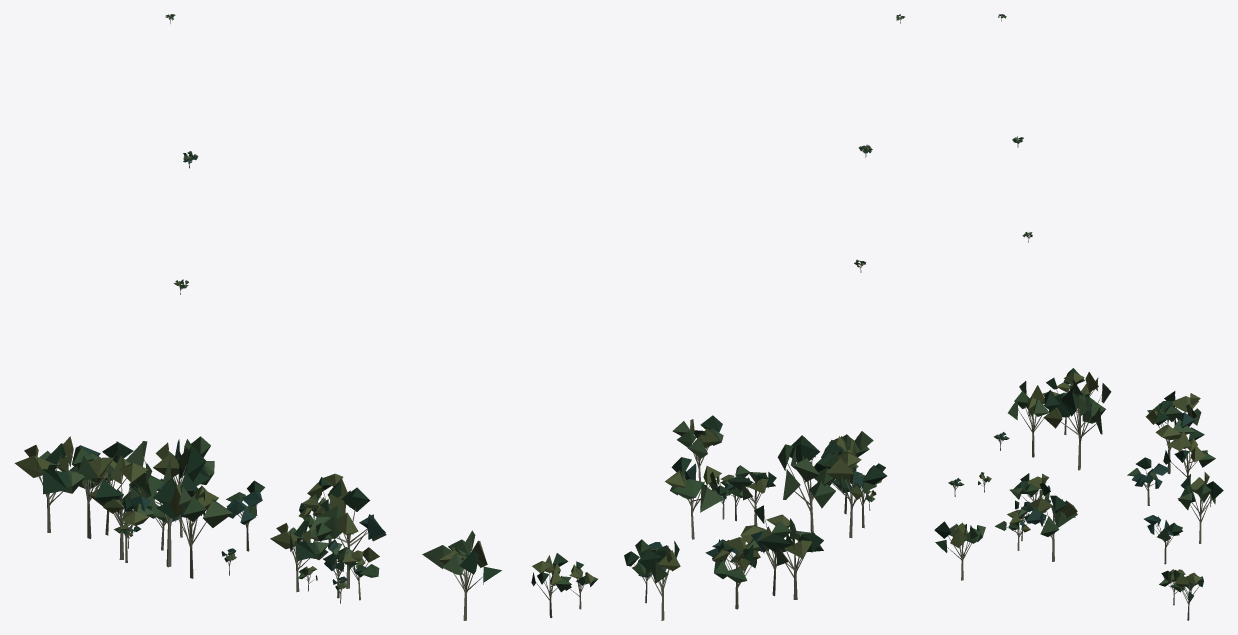
The model's file is forest_23_23.dae.
3 renders of one model, left to right at view 1: azimuth 30°, elevation 25°; view 2: azimuth 150°, elevation 25°; view 3: azimuth 270°, elevation 25°, orthographic. The views are drawn at different scales.
Parts seen in each view (by area): view 1: Node; view 2: Node; view 3: Node.
Part boxes in pixels (x1=…): Node: x1=14, y1=14, x2=501, y2=620; Node: x1=531, y1=14, x2=904, y2=620; Node: x1=934, y1=14, x2=1223, y2=620.
Size of the model in its own units: 11.17 by 11.31 by 21.75.
